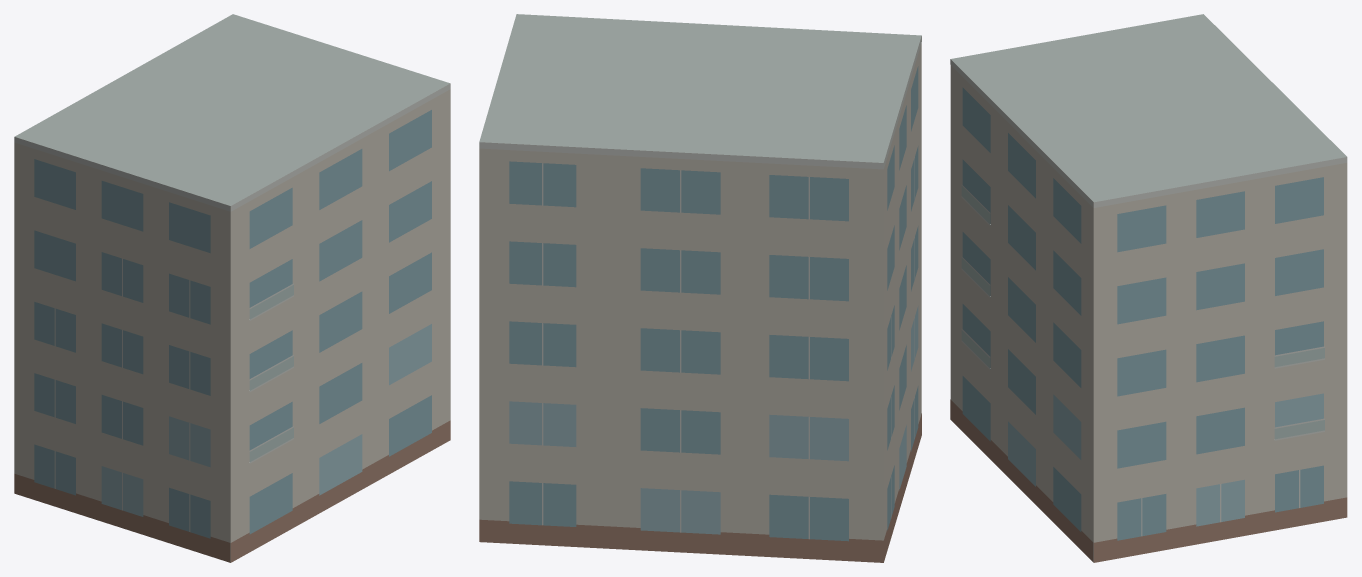
File: survey-upis-32593830.glb
3 renders of one model, left to right at view 1: azimuth 30°, elevation 25°; view 2: azimuth 150°, elevation 25°; view 3: azimuth 270°, elevation 25°, orthographic. The views are drawn at different scales.
Parts seen in each view (by area): view 1: survey-upis-32593830.tmp; view 2: survey-upis-32593830.tmp; view 3: survey-upis-32593830.tmp.
Part boxes in pixels (left/top/right/bottom): survey-upis-32593830.tmp: left=14, top=14, right=450, bottom=562; survey-upis-32593830.tmp: left=479, top=14, right=921, bottom=562; survey-upis-32593830.tmp: left=950, top=14, right=1347, bottom=562.
Bounding box in the file's own units: 17.09 × 15.25 × 15.22.
